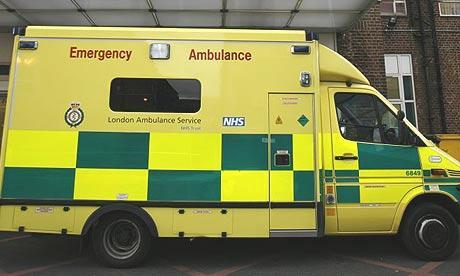Ambulance: (188, 47, 260, 63)
